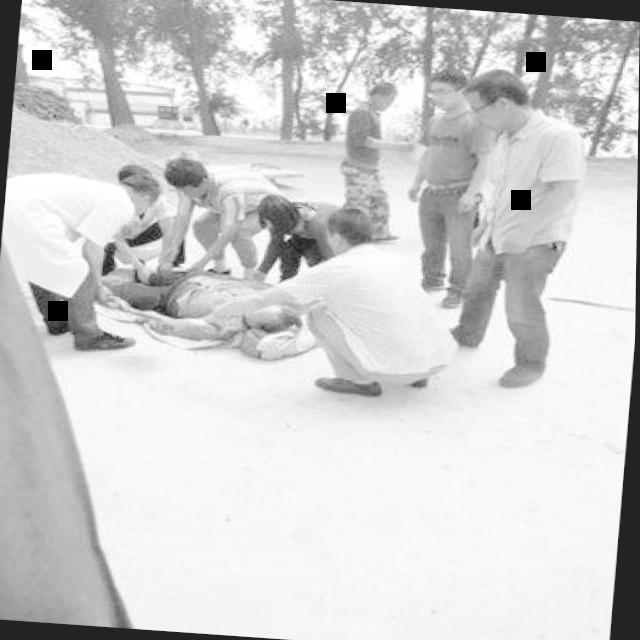Fall-Detected: (92, 243, 328, 364)
